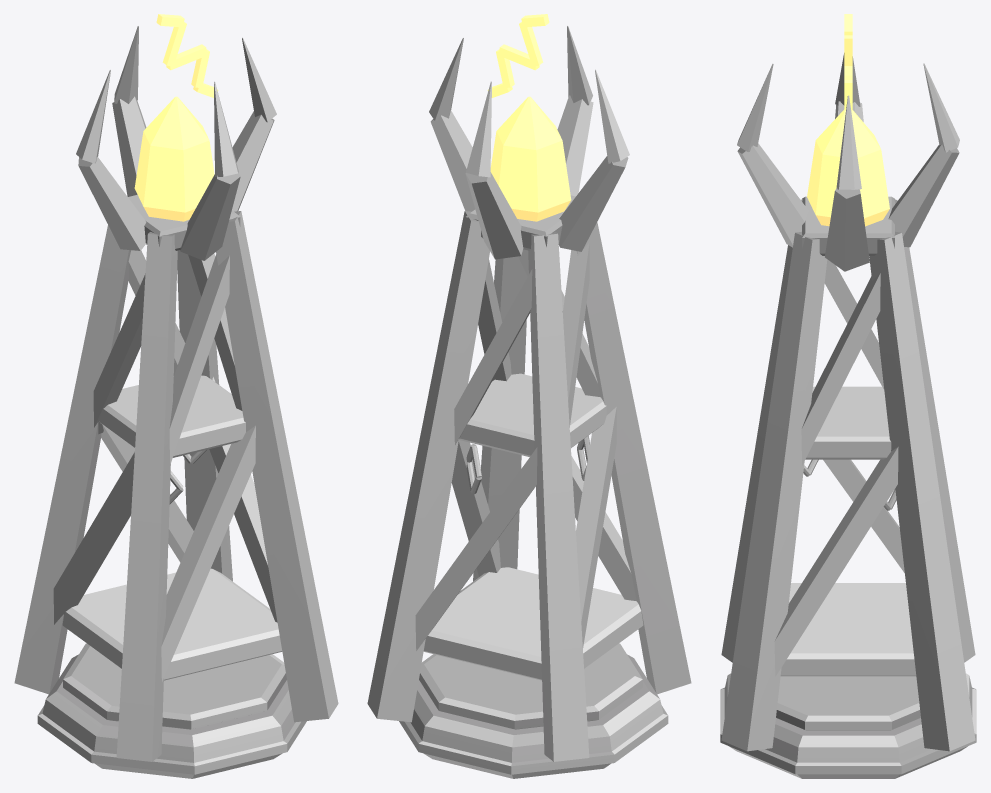
Rendered from storm.glb.
3 renders of one model, left to right at view 1: azimuth 30°, elevation 25°; view 2: azimuth 150°, elevation 25°; view 3: azimuth 270°, elevation 25°, orthographic.
Visible parts, largest first — view 1: storm.001; view 2: storm.001; view 3: storm.001.
Boxes of the visible parts, left/top/right/bottom form: storm.001: left=14, top=14, right=338, bottom=778; storm.001: left=367, top=14, right=691, bottom=778; storm.001: left=720, top=14, right=976, bottom=778.
Bounding box in the file's own units: 1.05 × 3.22 × 1.05.
